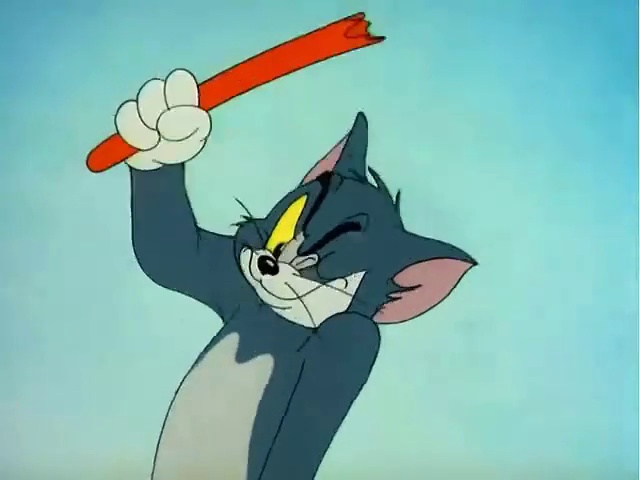tom: (74, 10, 502, 480)
